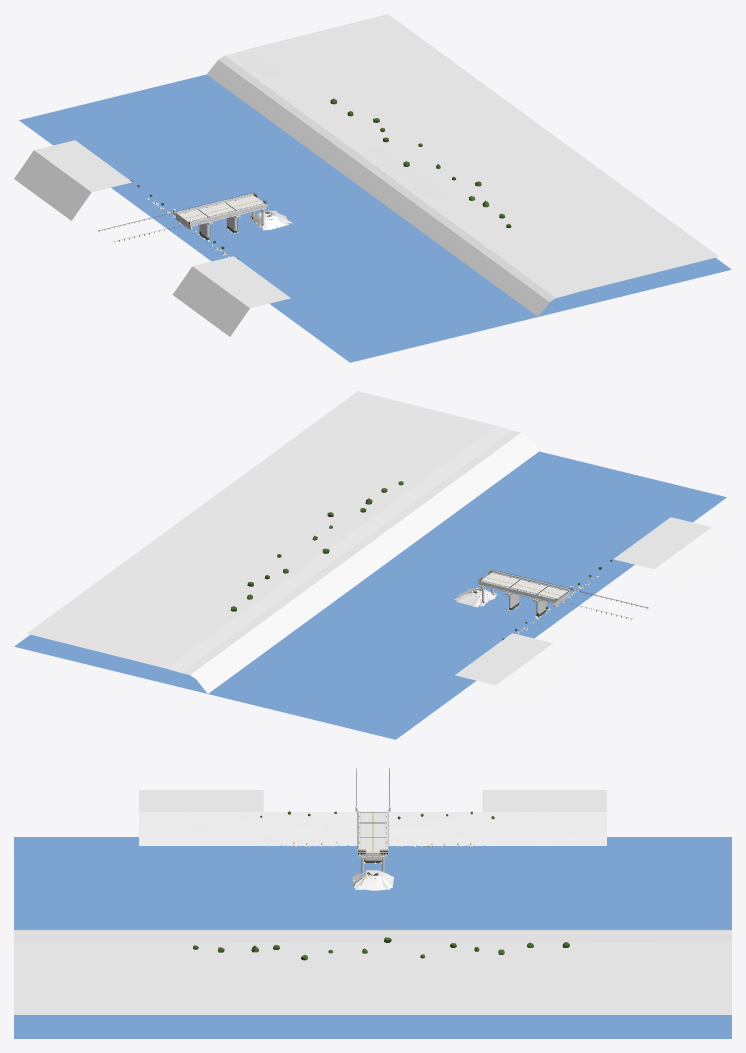
Rendered from bridge30.glb.
The picture shows the model from 3 angles, top to bottom: view 1: azimuth 30°, elevation 25°; view 2: azimuth 150°, elevation 25°; view 3: azimuth 270°, elevation 25°; orthographic projection. The views are drawn at different scales.
Visible parts, largest first — view 1: B30_FarBank, B30_River, B30_NearBank, B30_Deck; view 2: B30_FarBank, B30_River, B30_NearBank, B30_Deck; view 3: B30_River, B30_FarBank, B30_NearBank, B30_Deck, B30_VictimSlope.
Part boxes in pixels (x1,y1,x2,y2): B30_FarBank: (207,14,718,317); B30_River: (19,74,731,362); B30_NearBank: (14,140,290,336); B30_Deck: (176,196,267,226); B30_FarBank: (27,391,538,694); B30_River: (14,451,726,739); B30_NearBank: (455,517,731,713); B30_Deck: (478,573,569,603); B30_River: (14,837,731,1038); B30_FarBank: (14,929,731,1014); B30_NearBank: (139,790,606,847); B30_Deck: (357,811,388,856); B30_VictimSlope: (352,870,393,890).
Size of the model in its own units: 185 by 10.95 by 230.
